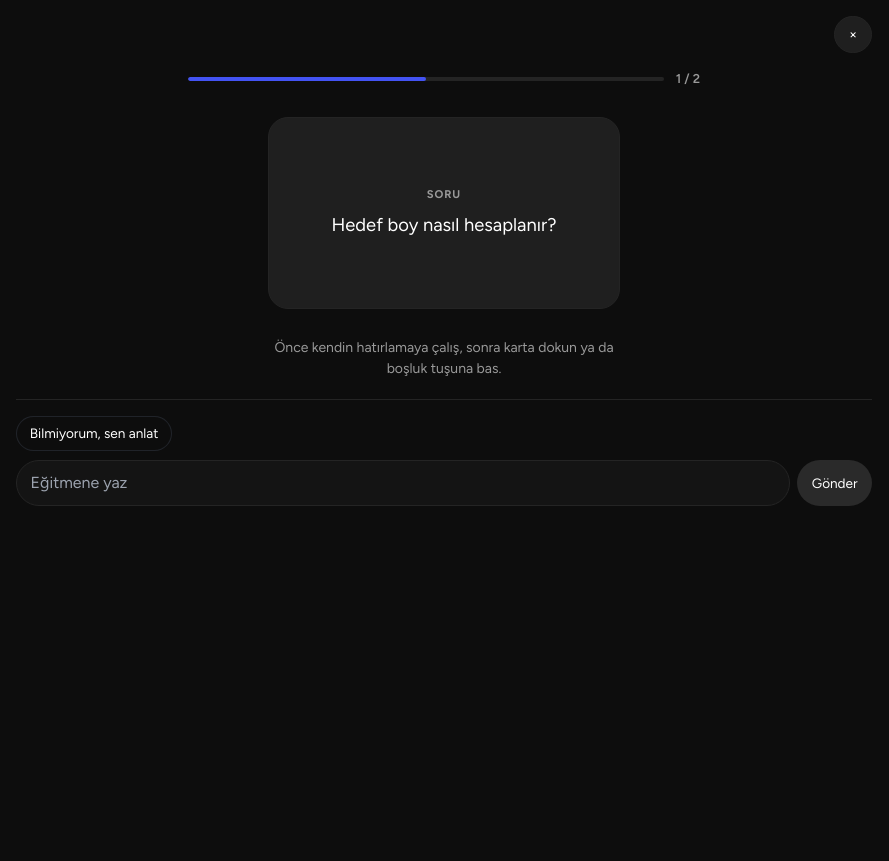
Scenario: exam-prep flashcards — Astra gibi tekrar turu ve kaynak › Atla tekrar turunu geçer, bilinmeyen kart sayılmaz
Expected: the text "Hedef boy nasıl hesaplanır?" is shown, [332,214,556,236]
Click the button with aria-label "Kartı çevir, cevabı göster".
click(444, 213)  # box [268,117,620,309]
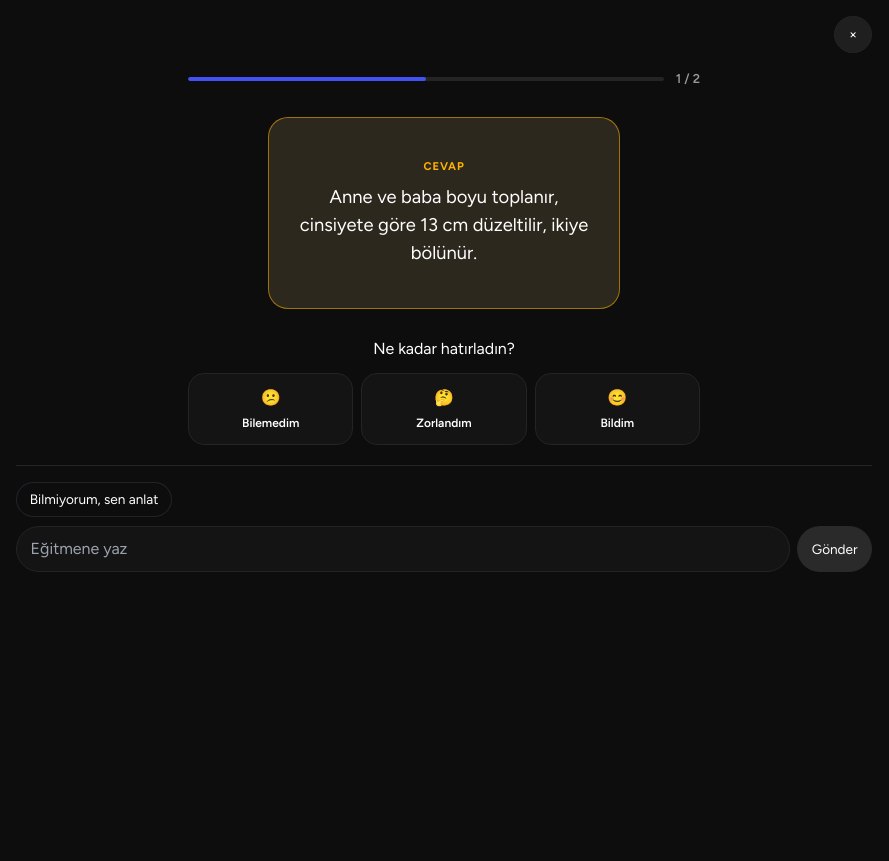
Click the button "😕 Bilemedim".
click(271, 409)  # box [188,373,353,445]
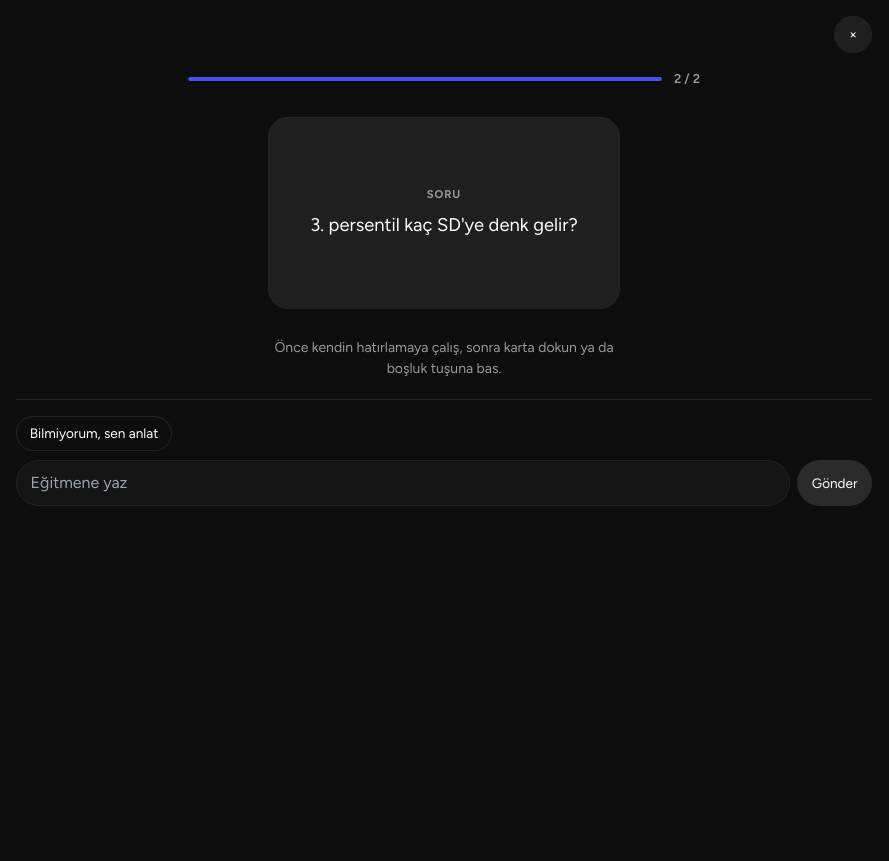
Expected: the text "3. persentil kaç SD'ye denk gelir?" is shown, [310,214,578,236]
Click the button with aria-label "Kartı çevir, cevabı göster".
click(444, 213)  # box [268,117,620,309]
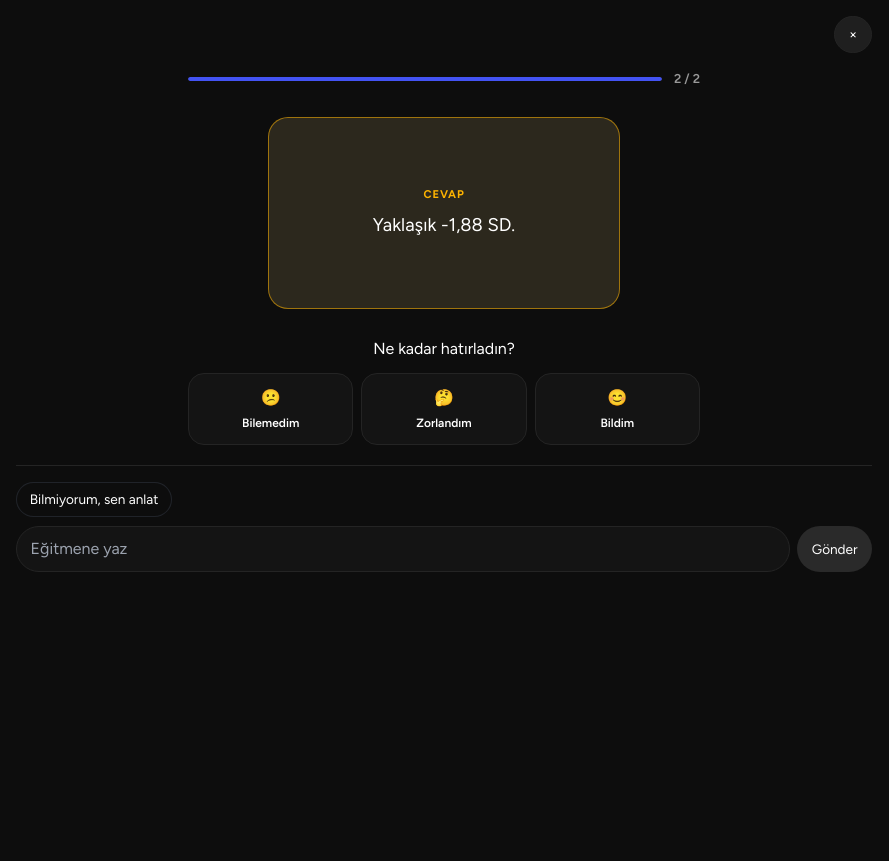
Click the button "😊 Bildim".
click(617, 409)  # box [535,373,700,445]
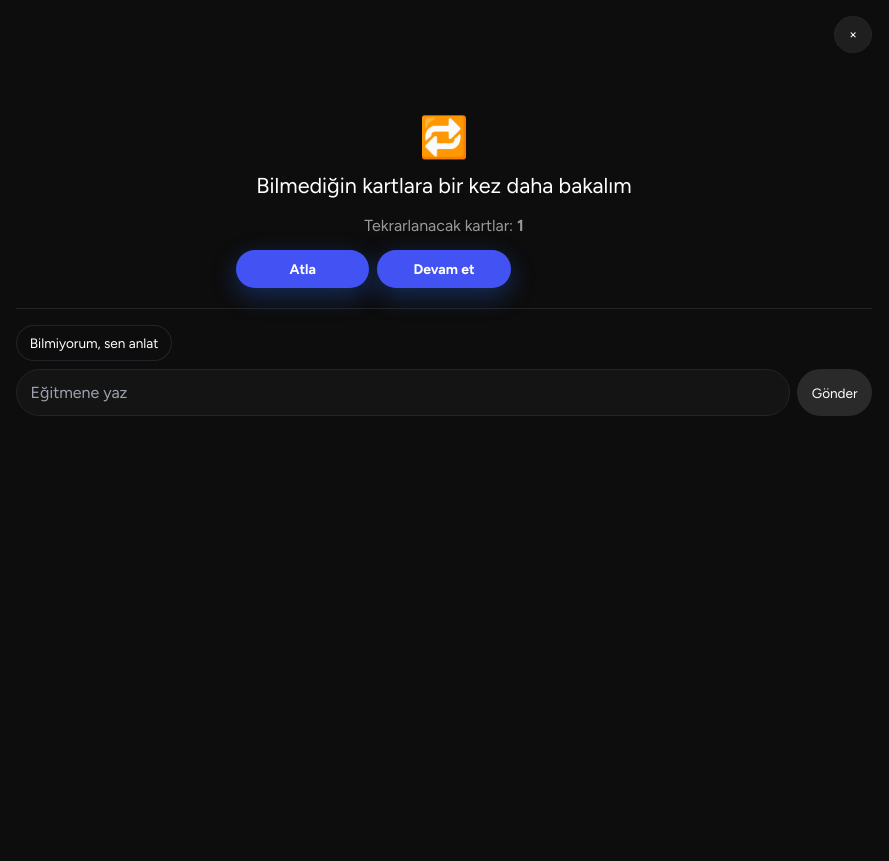
Click the button "Atla".
click(303, 269)  # box [236,250,369,288]
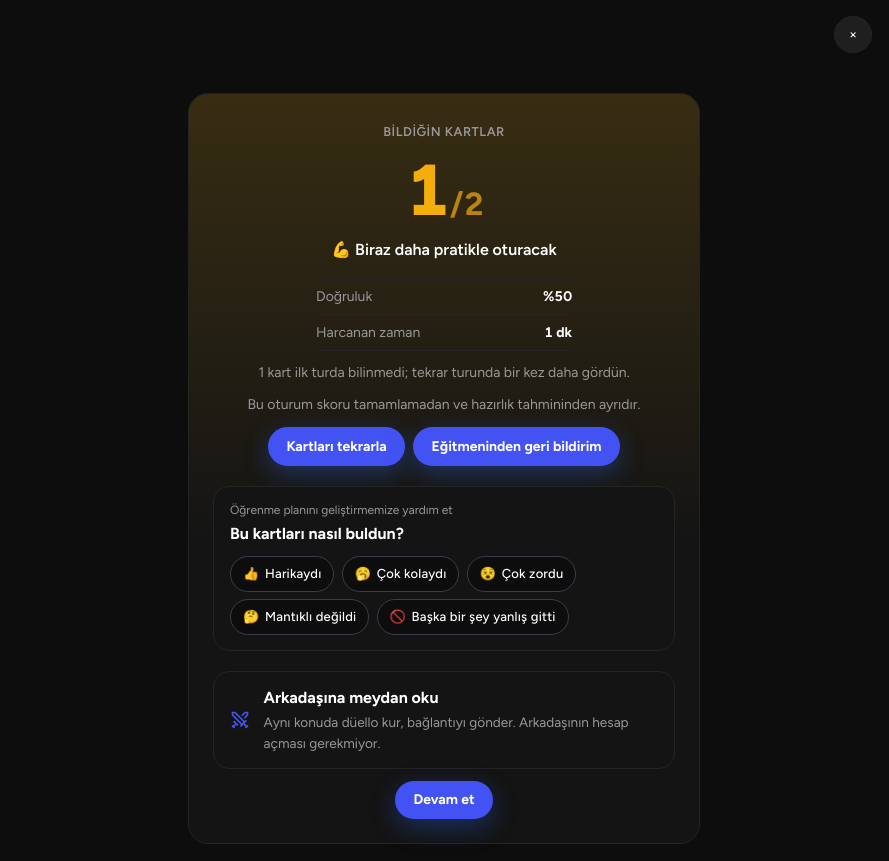
Expected: the element named "2 karttan 1 biliniyor" is shown, [404,154,484,226]
